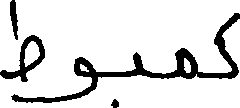ب: (111, 50, 143, 107)
ط: (0, 0, 46, 82)
ك: (213, 10, 239, 79)
م: (173, 45, 198, 79)
و: (49, 55, 97, 103)
